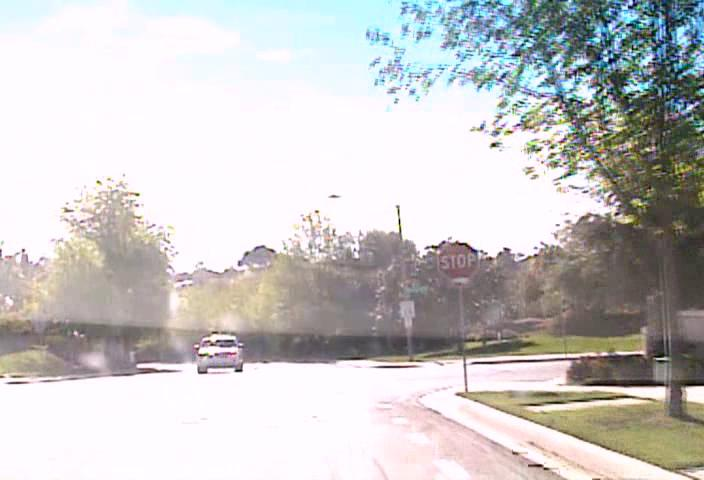stop: (437, 241, 478, 281)
